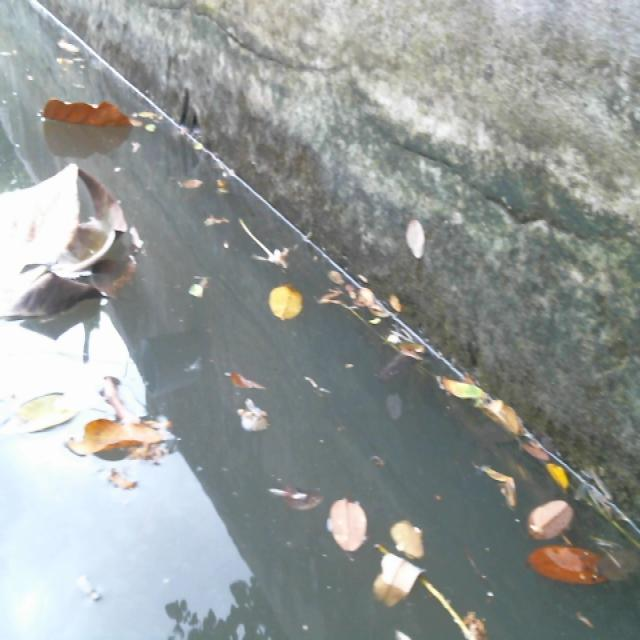Big-leaf: (0, 167, 150, 332), (80, 384, 174, 476), (38, 87, 158, 152)
Small-leaf: (0, 375, 82, 452), (522, 541, 631, 587), (321, 493, 377, 557), (261, 272, 310, 328), (379, 558, 425, 617), (438, 371, 494, 416), (529, 487, 578, 536), (481, 457, 519, 515), (392, 506, 432, 558), (488, 395, 525, 443), (199, 201, 246, 238), (220, 363, 269, 397), (180, 268, 220, 304), (543, 456, 575, 496), (522, 429, 551, 469), (180, 175, 210, 204), (48, 30, 82, 54), (214, 170, 236, 203)
